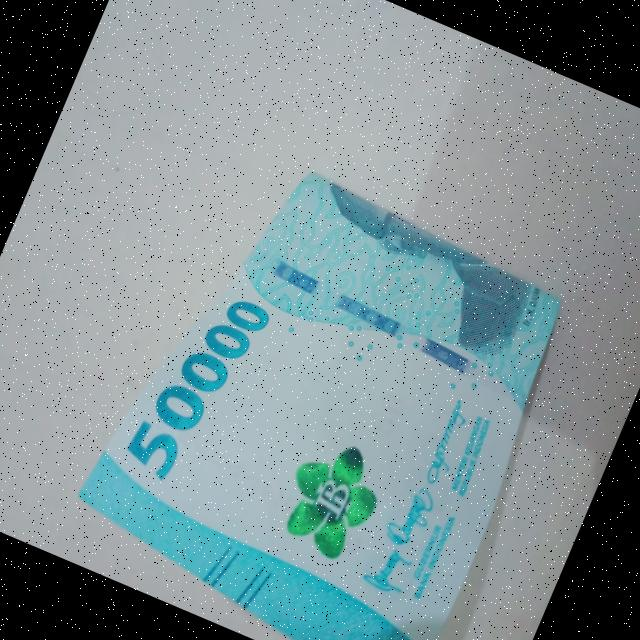50K: (43, 129, 600, 640)
